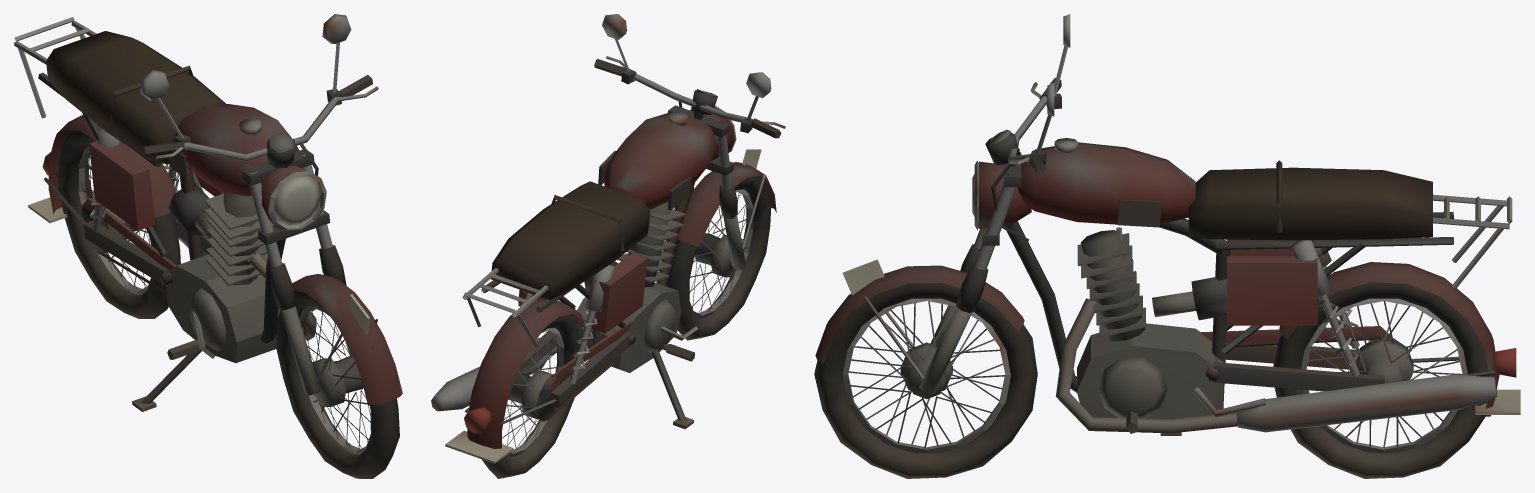
The model's file is scooter_motorcycle_v2.glb.
3 renders of one model, left to right at view 1: azimuth 30°, elevation 25°; view 2: azimuth 150°, elevation 25°; view 3: azimuth 270°, elevation 25°, orthographic. The views are drawn at different scales.
Visible parts, largest first — view 1: hb_metal, hb_main; view 2: hb_metal, hb_main; view 3: hb_metal, hb_main.
Boxes of the visible parts, left/top/right/bottom form: hb_metal: left=14, top=14, right=402, bottom=454; hb_main: left=42, top=31, right=399, bottom=478; hb_metal: left=431, top=14, right=785, bottom=463; hb_main: left=464, top=59, right=781, bottom=478; hb_metal: left=815, top=14, right=1520, bottom=453; hb_main: left=814, top=77, right=1516, bottom=478.
Size of the model in its own units: 0.7634 by 1.33 by 2.02.
